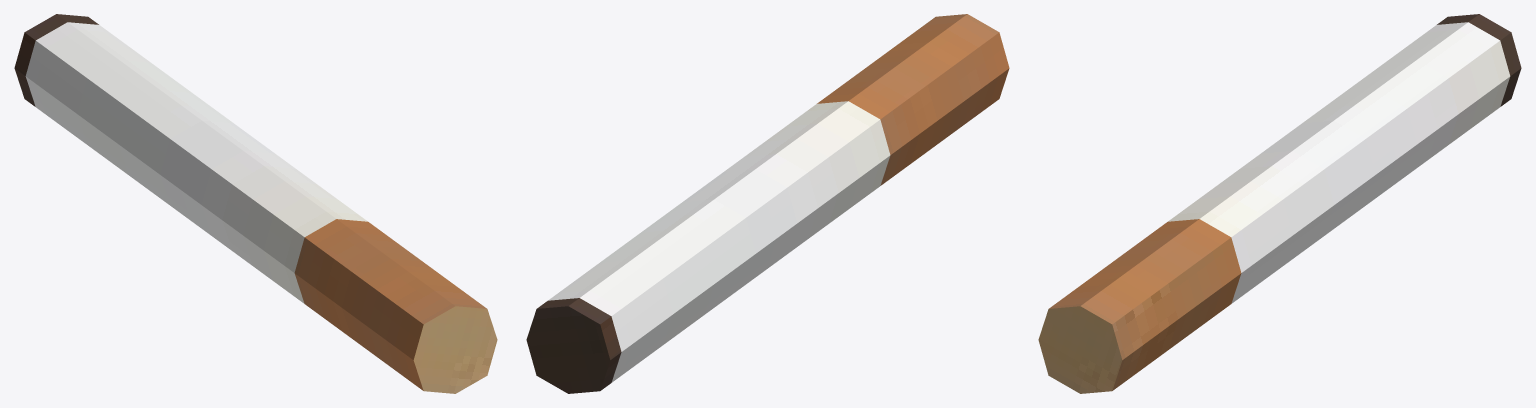
Rendered from cigarette_butt_poly_by_google.glb.
3 views of the same model, side by side, from view 1: azimuth 30°, elevation 25°; view 2: azimuth 150°, elevation 25°; view 3: azimuth 330°, elevation 25° (orthographic).
Parts seen in each view (by area): view 1: Cube.003_Cube.024; view 2: Cube.003_Cube.024; view 3: Cube.003_Cube.024.
Part boxes in pixels (box(x1,y1,x2,y2)): Cube.003_Cube.024: box(14, 14, 497, 393); Cube.003_Cube.024: box(526, 14, 1009, 393); Cube.003_Cube.024: box(1038, 14, 1521, 393).
Bounding box in the file's own units: 0.1126 × 0.1126 × 0.9279.
Materials: 1 (1 with a texture image).
